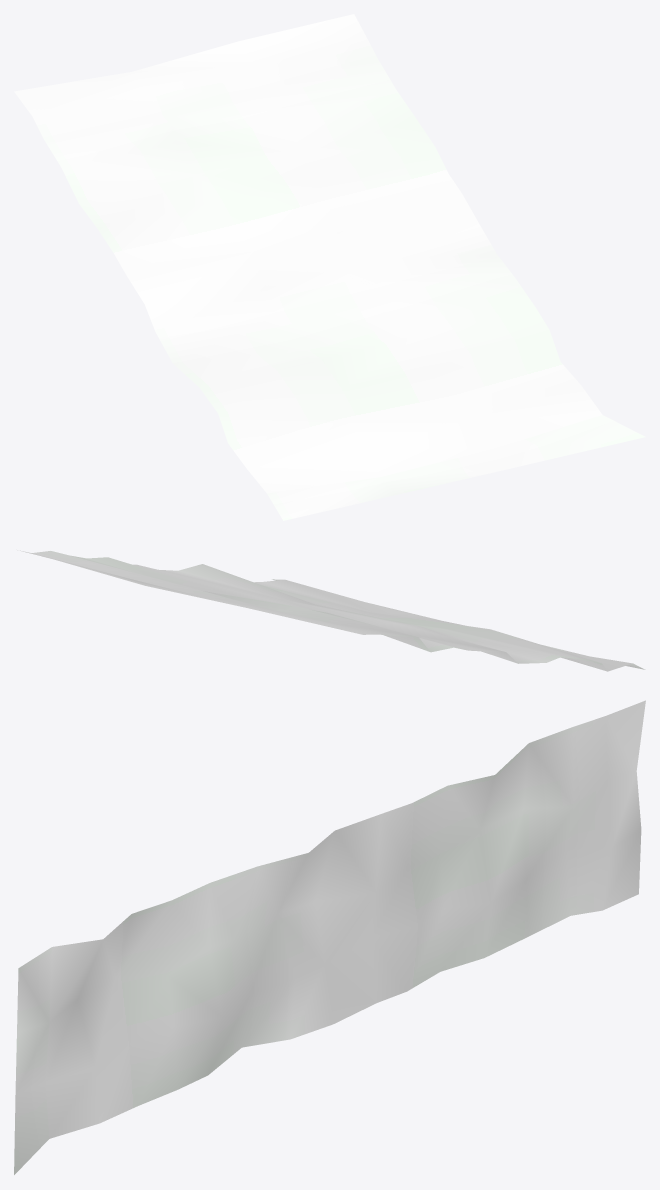
Rendered from NW_DRAGONISLE_STAIRSALPHA_01.glb.
3 views of the same model, one above another, from view 1: azimuth 30°, elevation 25°; view 2: azimuth 150°, elevation 25°; view 3: azimuth 270°, elevation 25° (orthographic). The views are drawn at different scales.
Parts seen in each view (by area): view 1: Mesh; view 2: Mesh; view 3: Mesh.
Boxes of the visible parts, bbox=[...] form: Mesh: bbox=[14, 14, 645, 520]; Mesh: bbox=[17, 550, 645, 671]; Mesh: bbox=[14, 700, 645, 1174].
Size of the model in its own units: 5.29 by 3.21 by 6.78.
Materials: 1 (1 with a texture image).
